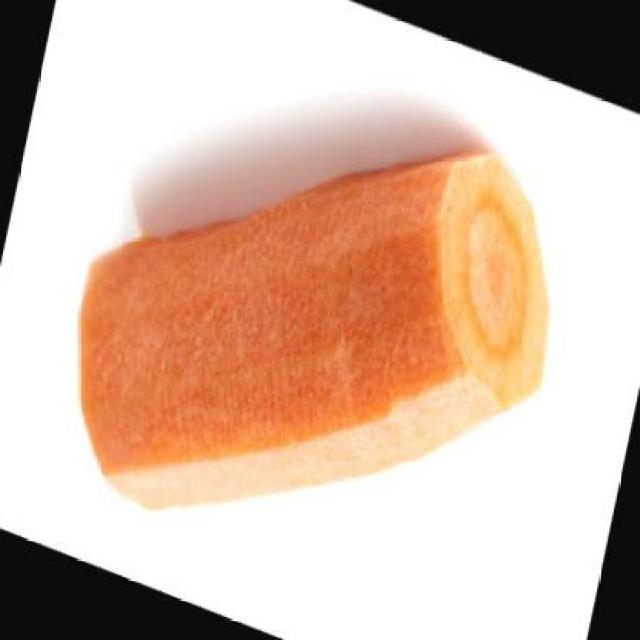carrot: (44, 10, 582, 639)
